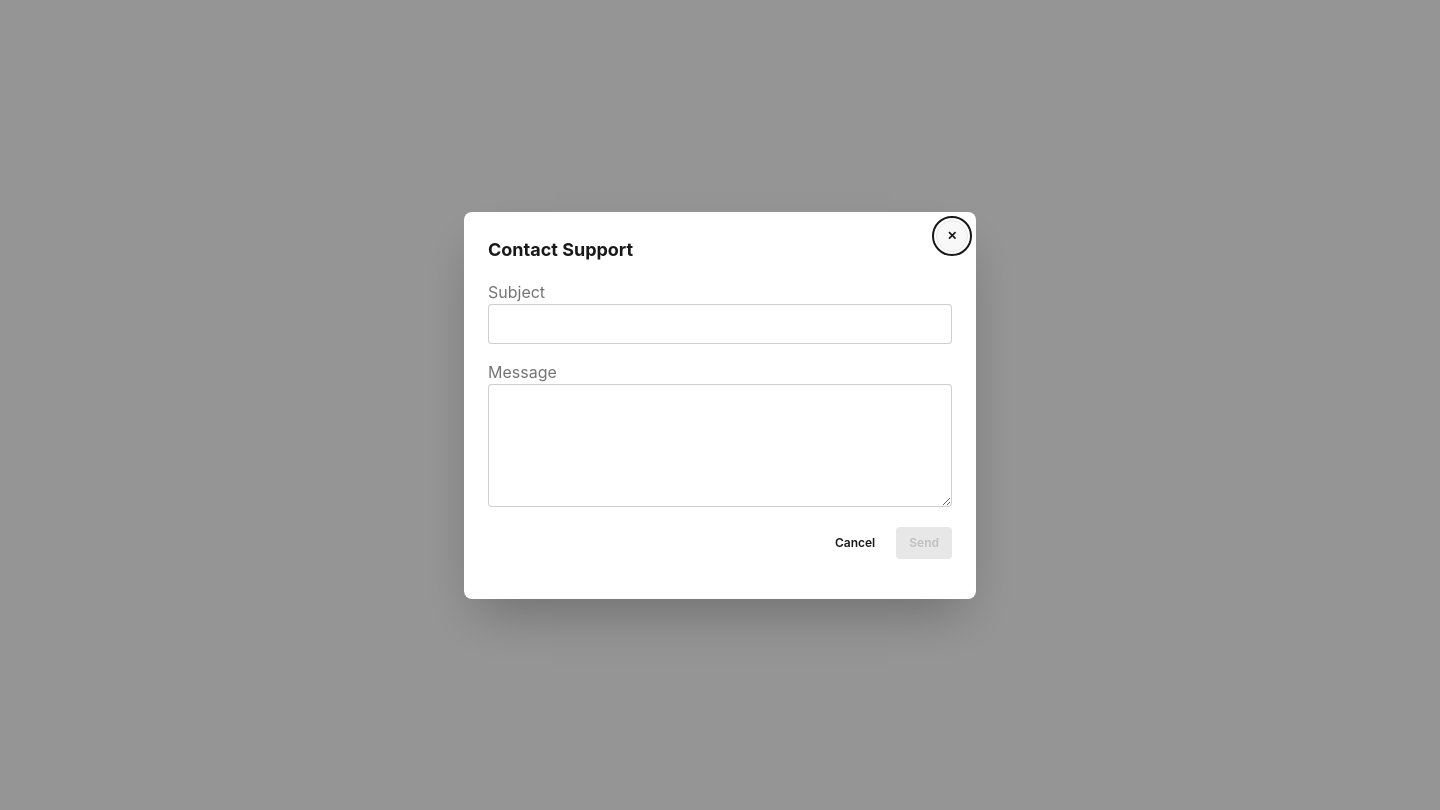
Scenario: SupportModal › disables Send while subject or message is empty
Expected: the button "Send" is disabled, [896,526,952,558]
Step 1. Type "Hello" into the field labelled "Subject" → (720, 324), box [488,304,952,344]
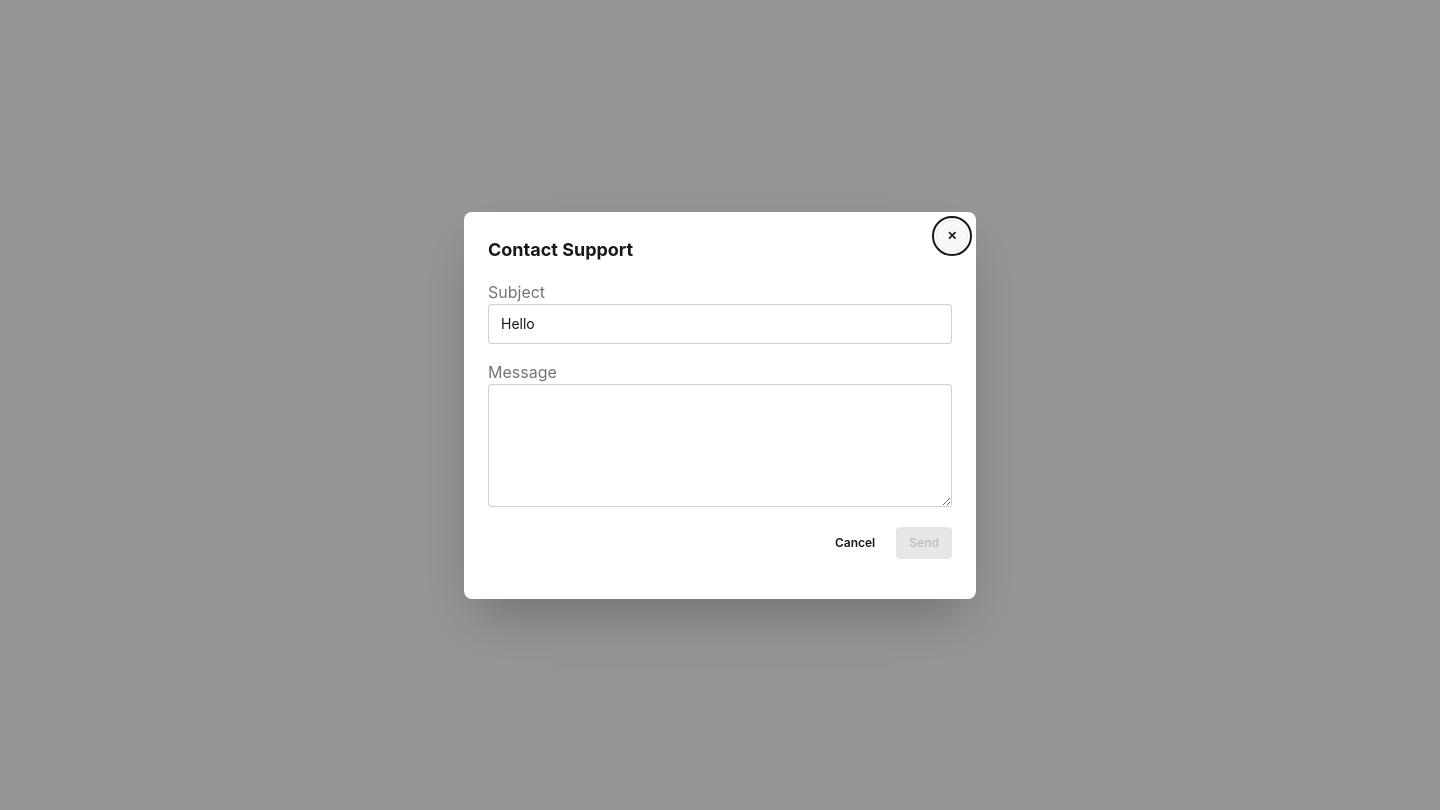
Expected: the button "Send" is disabled, [896,526,952,558]
Step 2. Type "Test message" into the text box labelled "Message" → (720, 445), box [488,384,952,506]
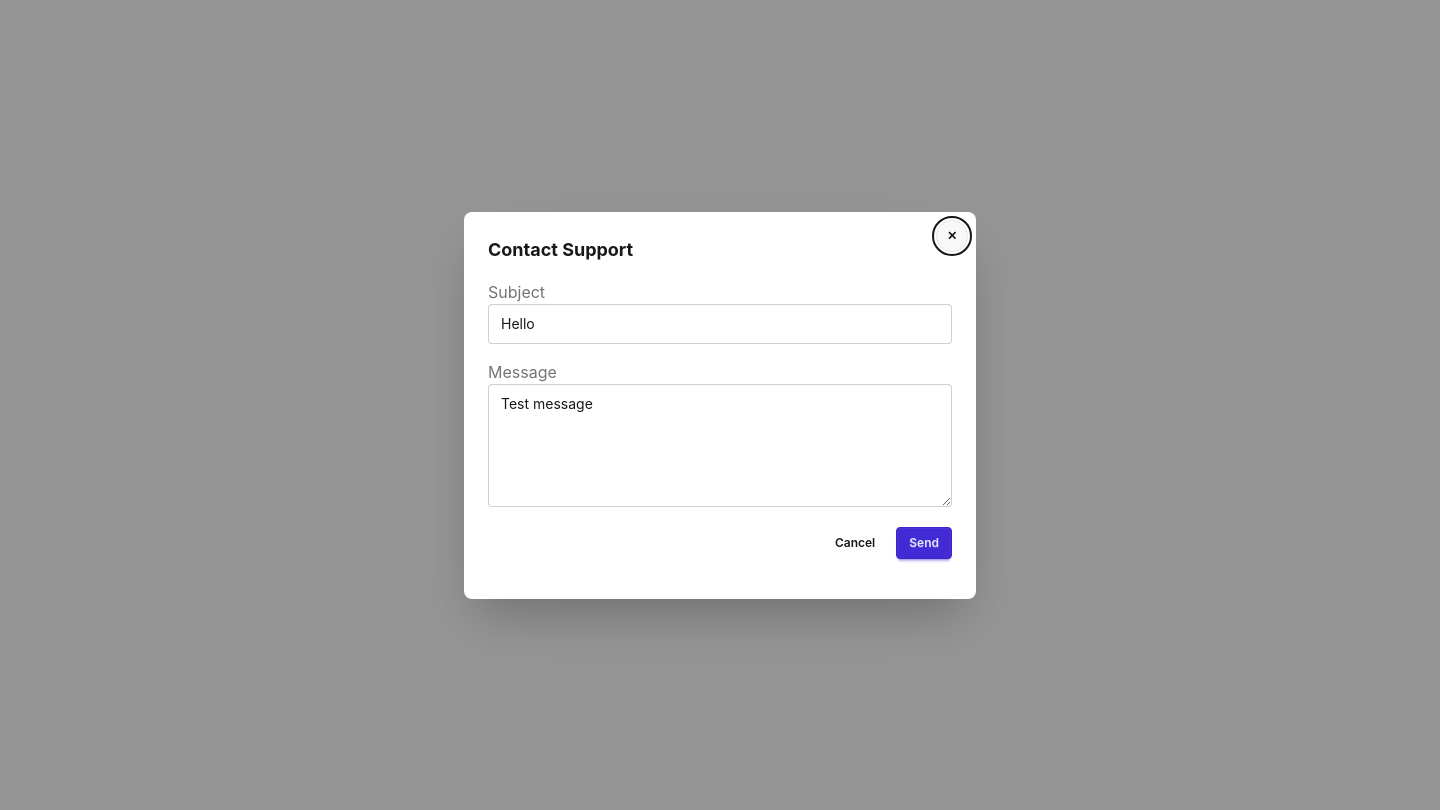
Now the button "Send" is enabled, box [896,526,952,558]
